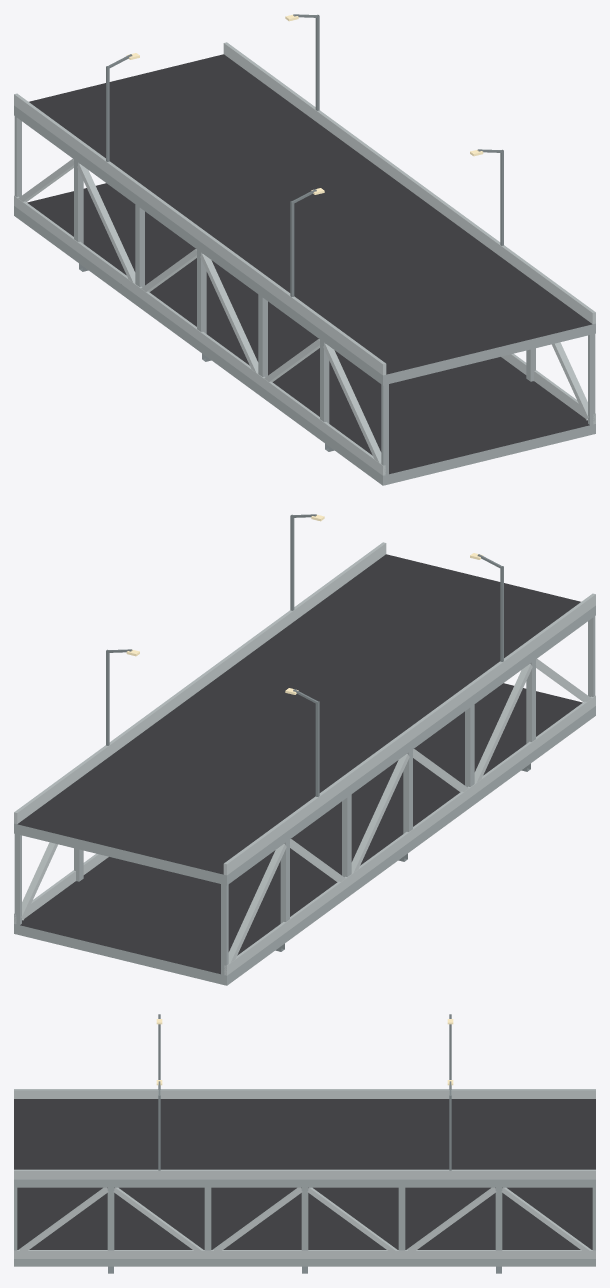
Rendered from bay_bridge_deck_segment.glb.
3 renders of one model, top to bottom at view 1: azimuth 30°, elevation 25°; view 2: azimuth 150°, elevation 25°; view 3: azimuth 270°, elevation 25°, orthographic. The views are drawn at different scales.
Parts seen in each view (by area): view 1: bay_bridge_deck_segment; view 2: bay_bridge_deck_segment; view 3: bay_bridge_deck_segment.
Part boxes in pixels (box(x1,y1,x2,y2)): bay_bridge_deck_segment: box(14, 14, 595, 485); bay_bridge_deck_segment: box(14, 514, 595, 985); bay_bridge_deck_segment: box(14, 1014, 595, 1273).
Bounding box in the file's own units: 20 × 20.99 × 60.
1 material, 1 textured.
